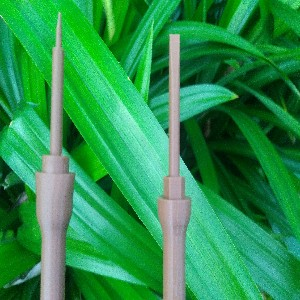obeng: (156, 32, 193, 300)
solder: (33, 10, 76, 300)
